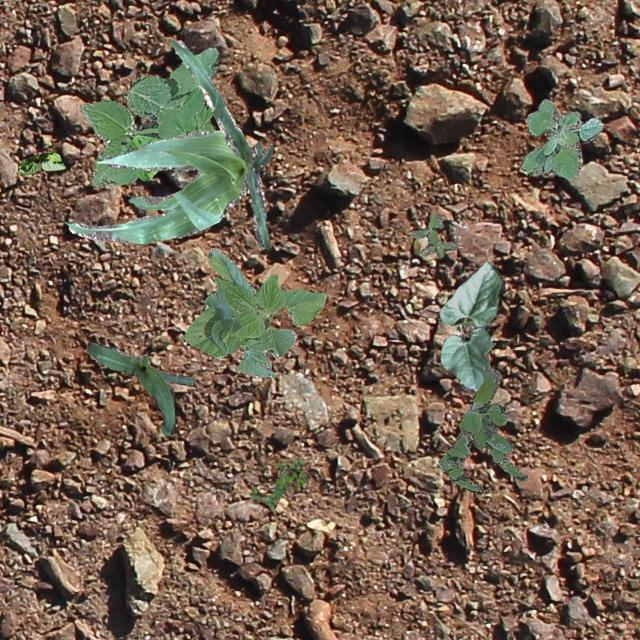crop: (66, 38, 272, 248), (182, 246, 324, 376), (88, 342, 192, 434), (436, 260, 504, 392), (16, 150, 64, 173)
weed: (80, 46, 218, 186), (436, 366, 526, 494), (520, 98, 602, 180), (248, 458, 310, 508), (409, 212, 456, 256), (120, 134, 162, 180)
